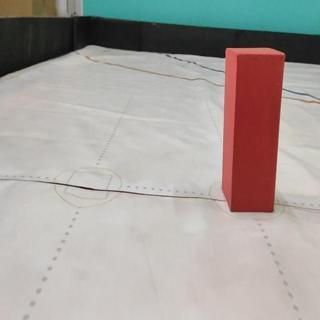redbox: (220, 47, 284, 213)
